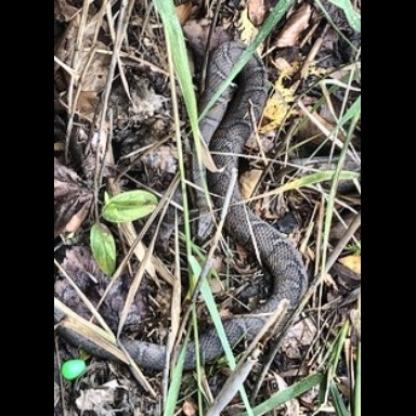Snake: (189, 33, 304, 343)
